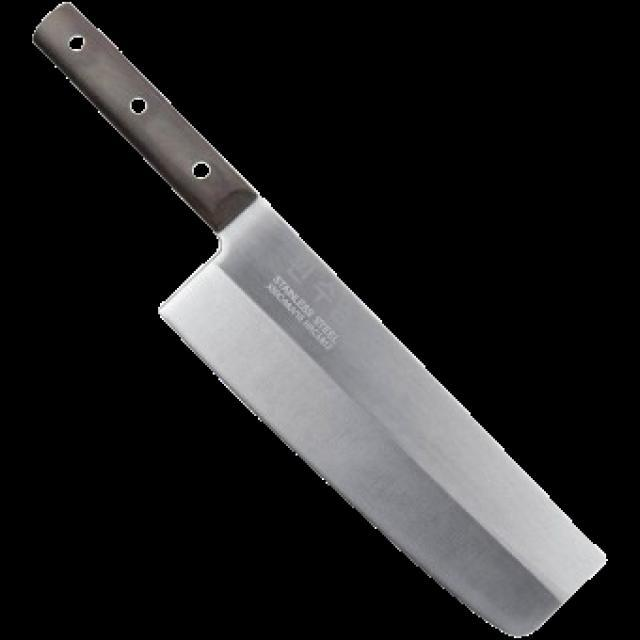knife: (30, 0, 605, 638)
